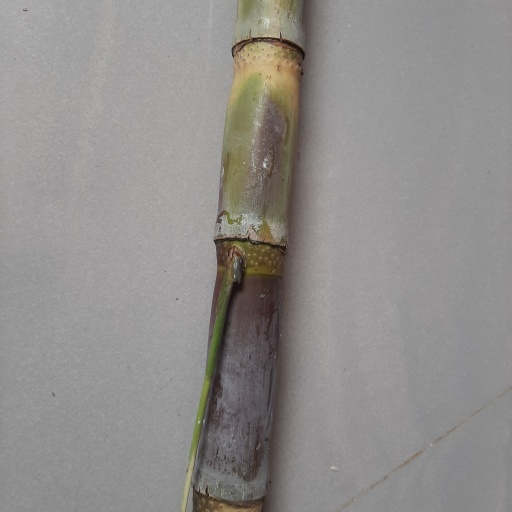Sprouted_Bud: (217, 244, 249, 298)
